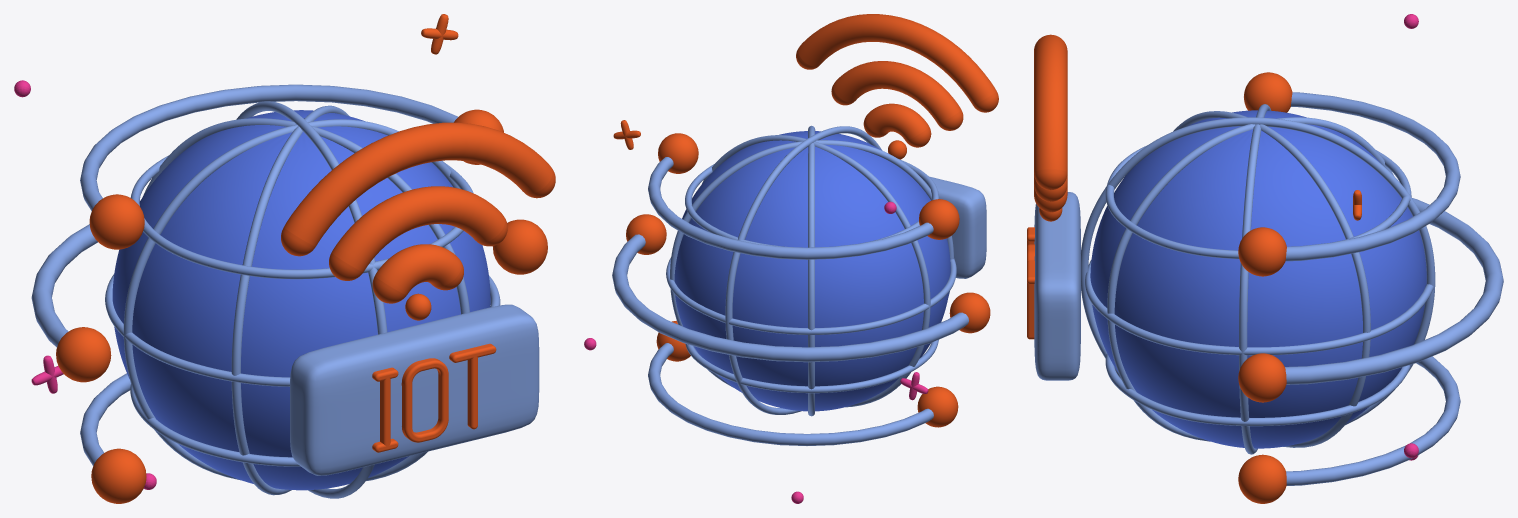
The model's file is internet-of-things-3d-animated-icon-236393556895.glb.
The picture shows the model from 3 angles, left to right: view 1: azimuth 30°, elevation 25°; view 2: azimuth 150°, elevation 25°; view 3: azimuth 270°, elevation 25°; orthographic projection. The views are drawn at different scales.
Visible parts, largest first — view 1: line sphere.010, Cube, wifi, wifi.001, Sweep_1.001, wifi.002, Sweep_1.003, Sweep_1.007, Sweep_1.009, Sweep_1.008, Sweep_1.006, iot.001 (+6 smaller); view 2: line sphere.010, Sweep_1.003, wifi, Sweep_1.002, Sweep_1.001, wifi.001, Cube, wifi.002, Sweep_1.007, Sweep_1.005, Sweep_1.008, Sweep_1.009 (+2 smaller); view 3: line sphere.010, Cube, Sweep_1.003, Sweep_1.001, wifi, Sweep_1.002, Sweep_1.004, Sweep_1.005, Sweep_1.006, Sweep_1.007, iot.002.
Part boxes in pixels (x1,y1,x2,y2): line sphere.010: (105,101,500,498); Cube: (290,304,539,475); wifi: (281,122,555,256); wifi.001: (329,186,507,280); Sweep_1.001: (80,84,457,210); wifi.002: (372,244,463,303); Sweep_1.003: (31,224,97,347); Sweep_1.007: (89,194,144,249); Sweep_1.009: (56,327,111,382); Sweep_1.008: (91,448,146,503); Sweep_1.006: (492,219,547,274); iot.001: (401,358,448,442); line sphere.010: (666,125,956,416); Sweep_1.003: (612,234,968,362); wifi: (796,14,998,112); Sweep_1.002: (648,343,933,445); Sweep_1.001: (648,157,933,259); wifi.001: (831,61,963,130); Cube: (929,176,986,278); wifi.002: (863,103,931,147); Sweep_1.007: (919,199,959,239); Sweep_1.005: (658,133,698,173); Sweep_1.008: (917,386,958,427); Sweep_1.009: (949,292,990,333); line sphere.010: (1080,104,1435,454); Cube: (1034,192,1080,380); Sweep_1.003: (1285,198,1503,384); Sweep_1.001: (1285,92,1460,261); wifi: (1034,34,1067,190); Sweep_1.002: (1286,356,1460,485); Sweep_1.004: (1238,454,1286,503); Sweep_1.005: (1238,227,1286,276); Sweep_1.006: (1238,353,1286,402); Sweep_1.007: (1244,72,1292,112); iot.002: (1027,260,1034,339).
Size of the model in its own units: 4.54 by 4.4 by 4.33.
